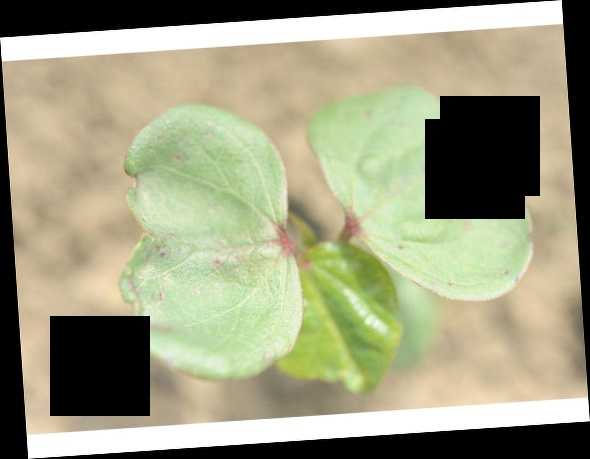cotton: (117, 91, 535, 398)
